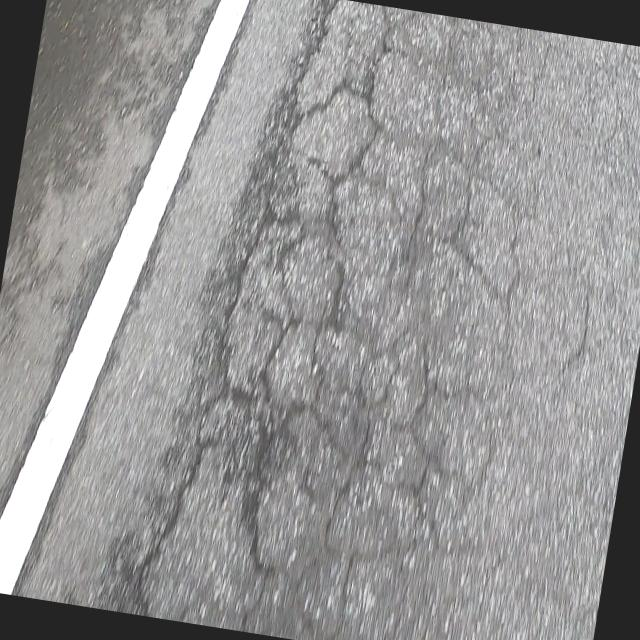Retak-Buaya: (139, 0, 520, 640)
